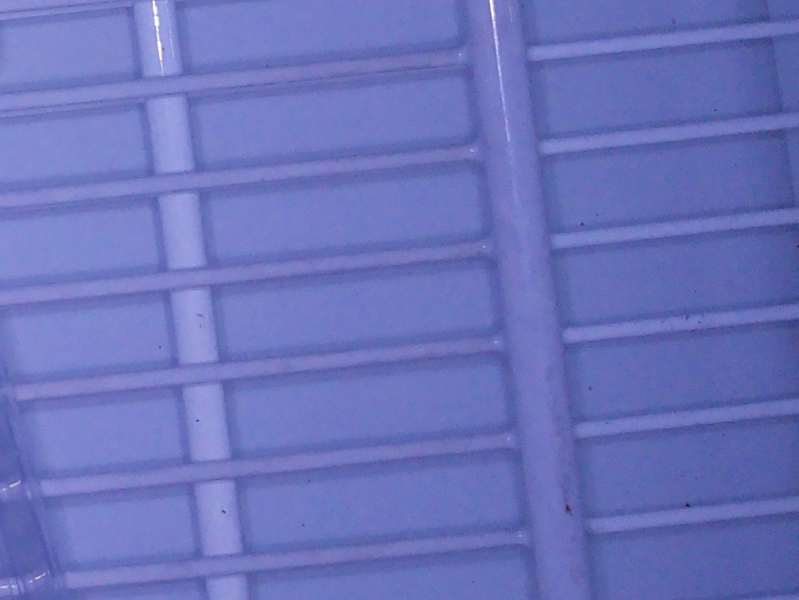plate: (1, 373, 65, 600)
